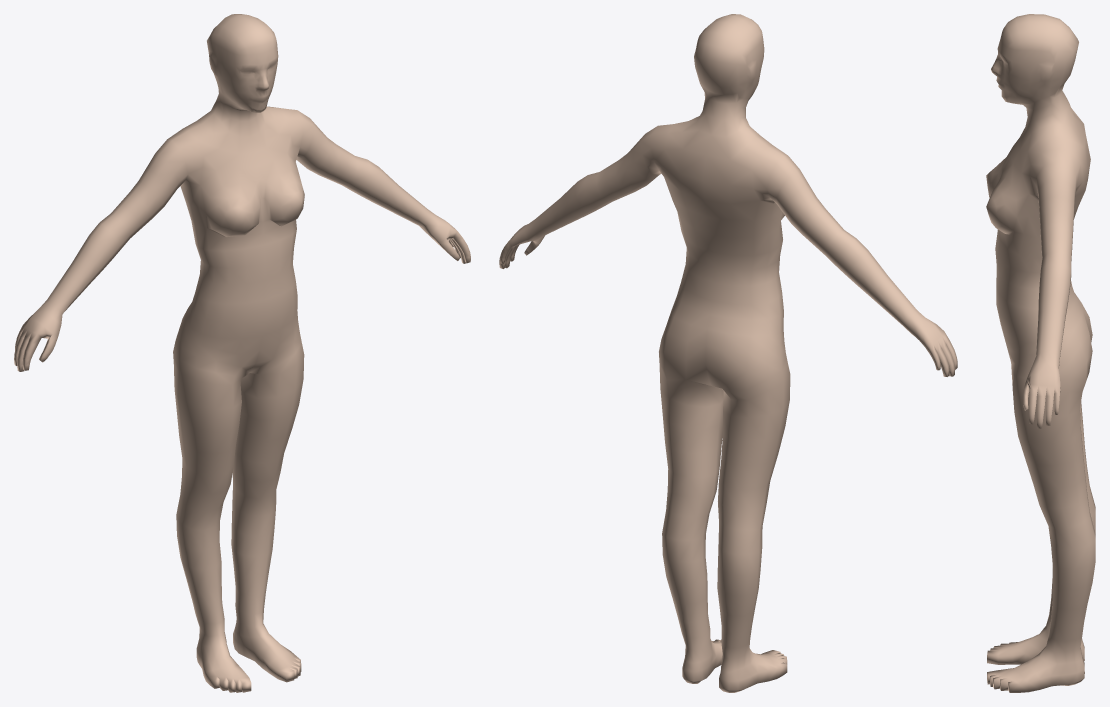
The model's file is MayaFemaleBod.fbx.
The picture shows the model from 3 angles, left to right: view 1: azimuth 30°, elevation 25°; view 2: azimuth 150°, elevation 25°; view 3: azimuth 270°, elevation 25°; orthographic projection.
Visible parts, largest first — view 1: Nurse; view 2: Nurse; view 3: Nurse.
Boxes of the visible parts, <box> form: Nurse: <box>14,14,470,692</box>; Nurse: <box>499,14,957,692</box>; Nurse: <box>986,14,1095,692</box>.
Size of the model in its own units: 138 by 192 by 29.05.
